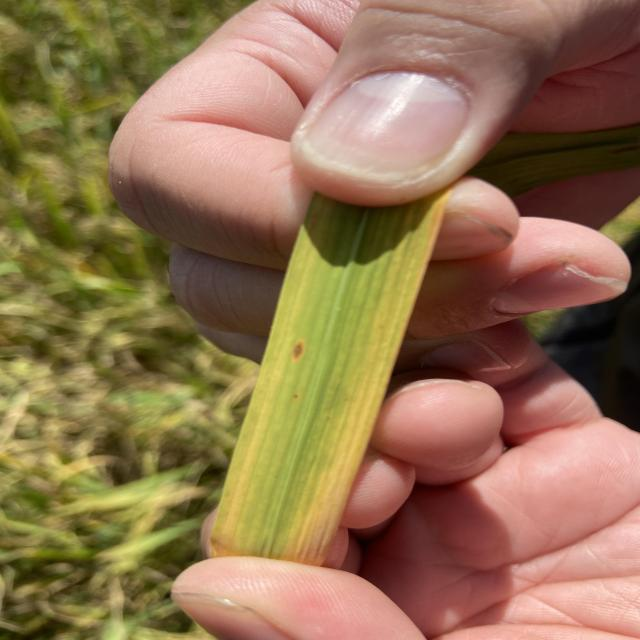Dom nau: (293, 342, 304, 359)
